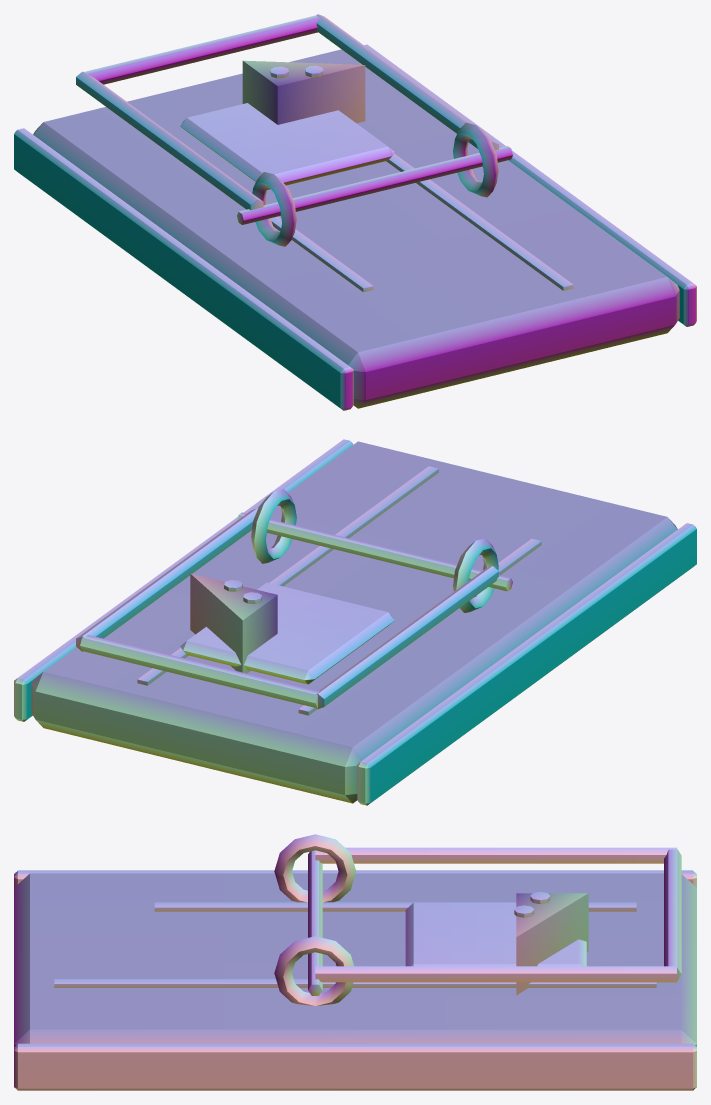
The model's file is gad_trap_shut.glb.
3 views of the same model, one above another, from view 1: azimuth 30°, elevation 25°; view 2: azimuth 150°, elevation 25°; view 3: azimuth 270°, elevation 25° (orthographic). The views are drawn at different scales.
Visible parts, largest first — view 1: trap_shut; view 2: trap_shut; view 3: trap_shut.
Boxes of the visible parts, x1,y1,x2,y2 form: trap_shut: (14, 14, 696, 410); trap_shut: (14, 439, 696, 805); trap_shut: (14, 834, 696, 1090).
Size of the model in its own units: 0.106 by 0.0342 by 0.17.
